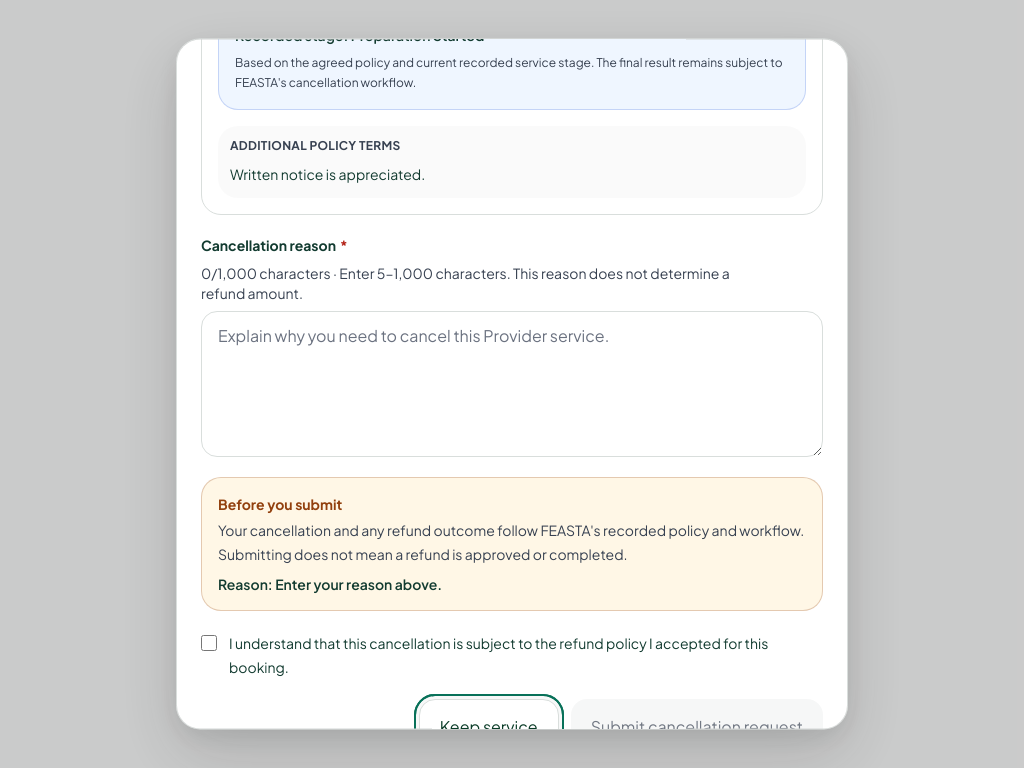
Test: Customer Provider-service cancellation › maps the awaiting_payment_resolution submission result without promising completion
(page scrolled)
Type "The event schedule is no longer available." into the text box labelled "Cancellation reason*" at (512, 384), box [201,311,823,457]
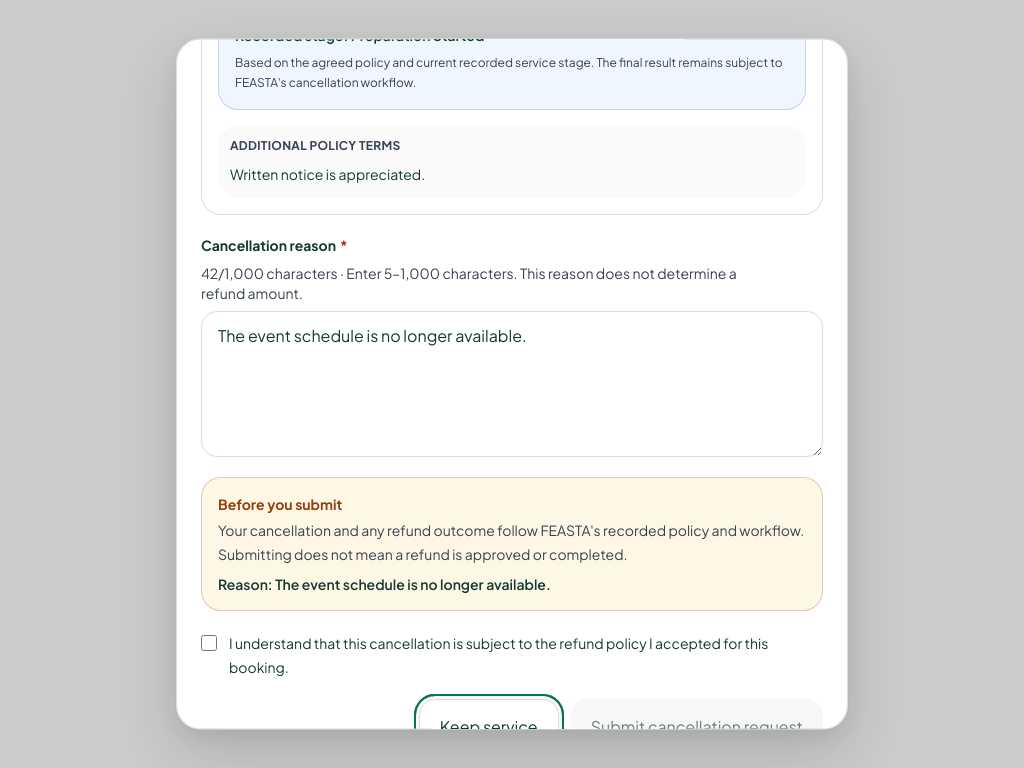
Click the checkbox at (209, 643), box [201,635,217,651]
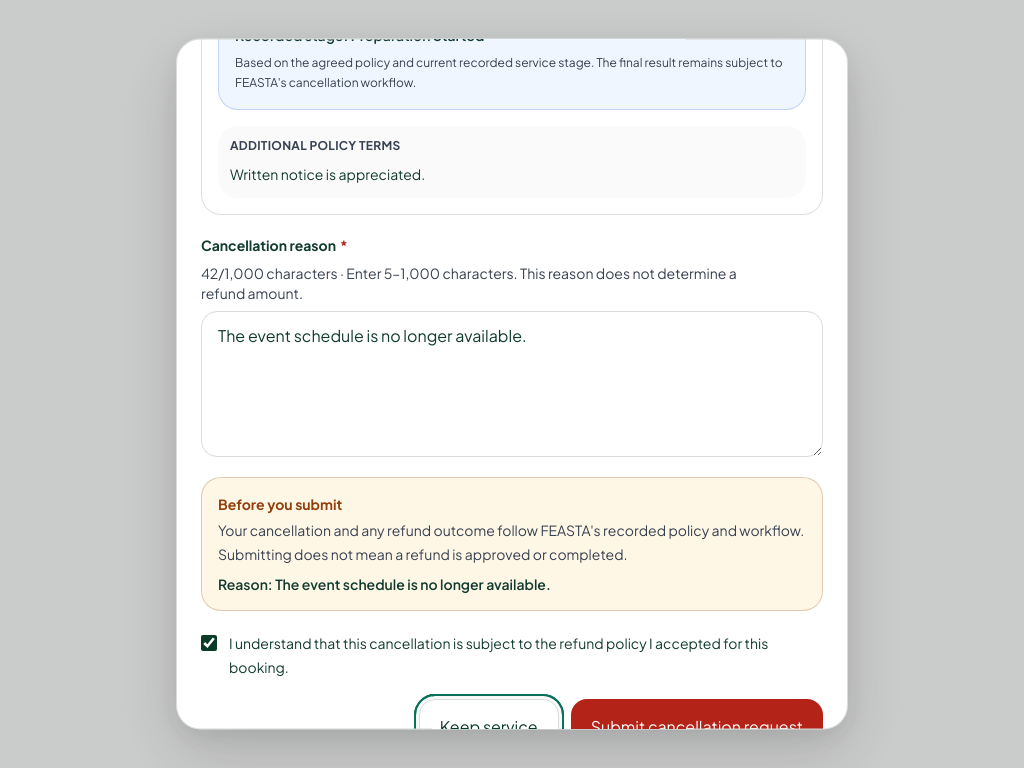
Click the button "Submit cancellation request" at (697, 727), box [571,699,823,755]
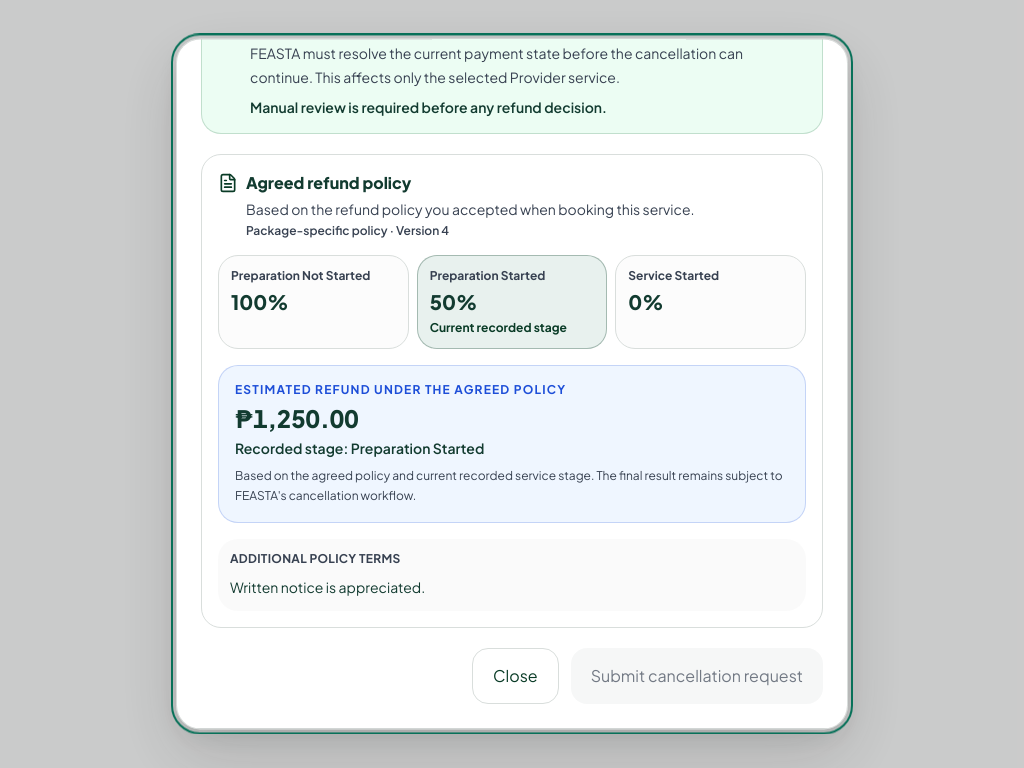
Expected: the text "This affects only the selected Provider service" is shown, [313,68,620,86]
